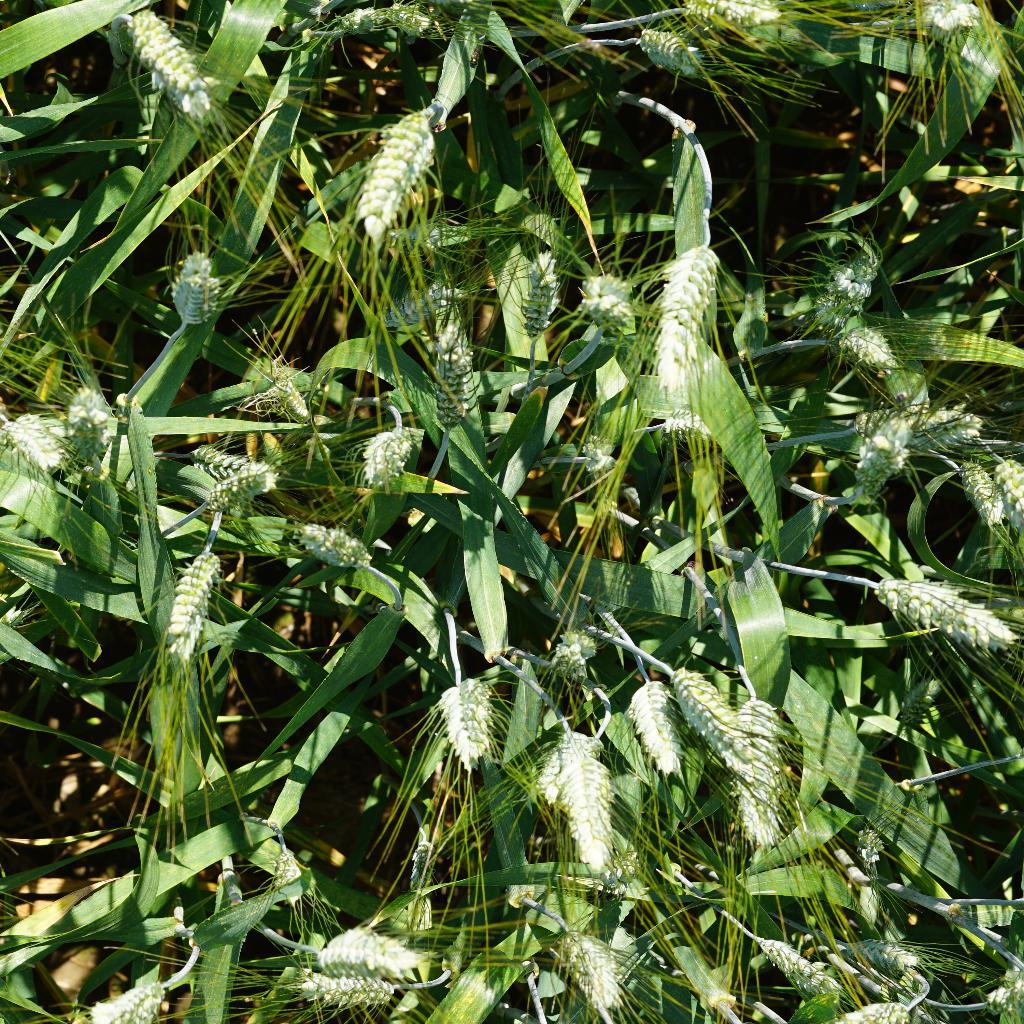0-0: (858, 561, 1024, 666), (650, 235, 728, 414), (354, 100, 446, 245), (727, 692, 797, 860), (118, 6, 217, 122), (830, 382, 919, 503), (668, 666, 762, 772), (620, 662, 701, 783), (311, 912, 432, 987), (542, 915, 632, 1015), (556, 753, 626, 881), (159, 545, 222, 677), (752, 930, 851, 1011), (432, 671, 500, 779), (504, 228, 567, 342), (291, 959, 409, 1016), (351, 408, 436, 485), (78, 967, 185, 1024), (903, 382, 994, 448), (535, 730, 605, 813), (286, 514, 381, 574), (423, 329, 480, 428), (254, 358, 335, 426), (372, 275, 468, 331), (948, 443, 1009, 531), (195, 467, 281, 529), (575, 260, 641, 339), (825, 314, 909, 373), (840, 931, 937, 982), (165, 248, 228, 326), (814, 246, 886, 311), (191, 433, 286, 481), (637, 23, 717, 79), (681, 0, 787, 41), (7, 412, 70, 475), (645, 401, 720, 451), (60, 377, 115, 443), (910, 1, 990, 45), (811, 995, 924, 1024), (896, 671, 948, 733), (550, 622, 606, 678), (971, 963, 1024, 1022), (574, 430, 632, 482), (390, 220, 464, 256), (268, 847, 311, 908), (598, 846, 644, 901), (380, 0, 443, 39), (406, 832, 439, 894), (328, 5, 384, 38), (992, 454, 1024, 511), (851, 823, 886, 872)
